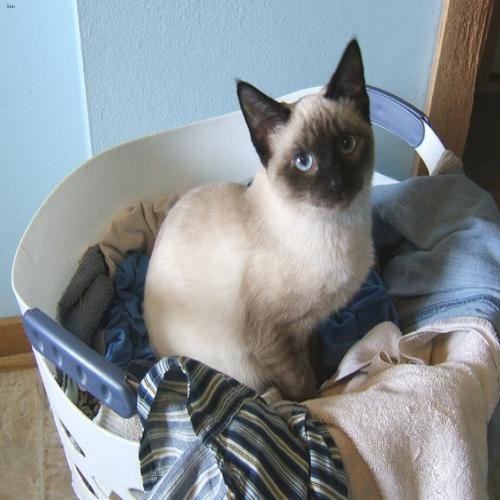siamese: (222, 34, 399, 211)
